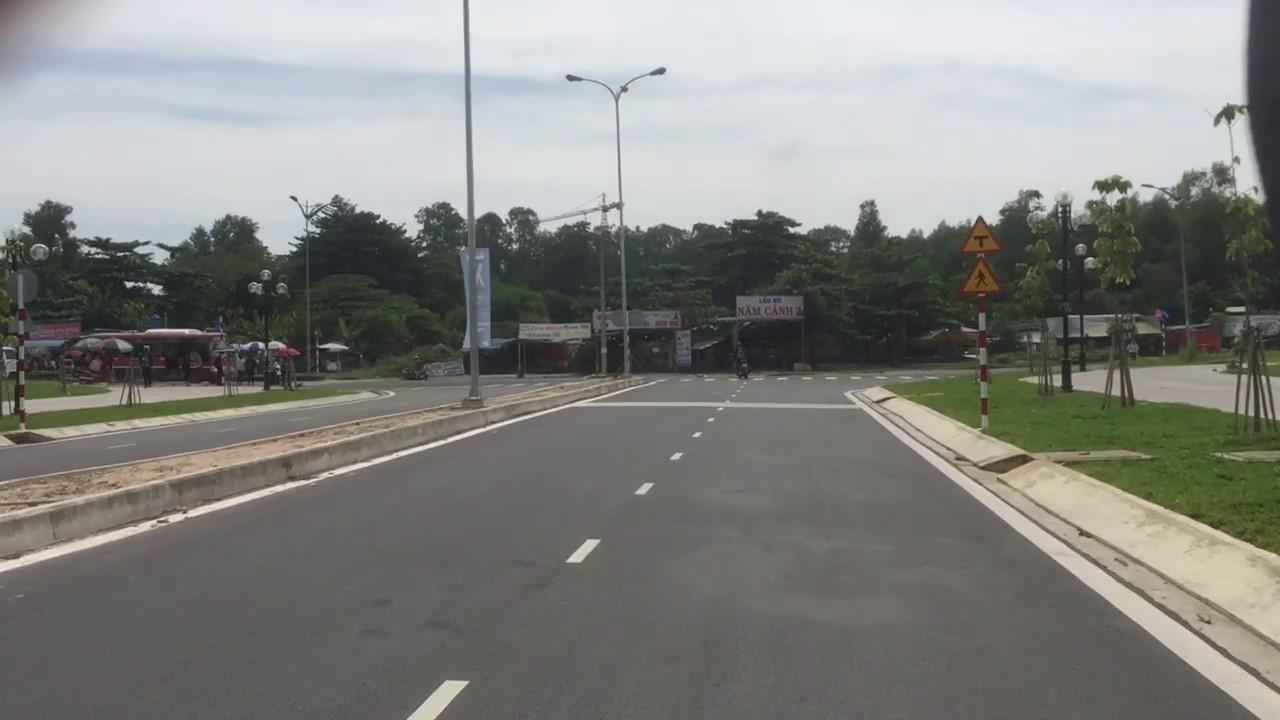P.124b: (958, 256, 1006, 296)
P.125: (958, 214, 1004, 256)
